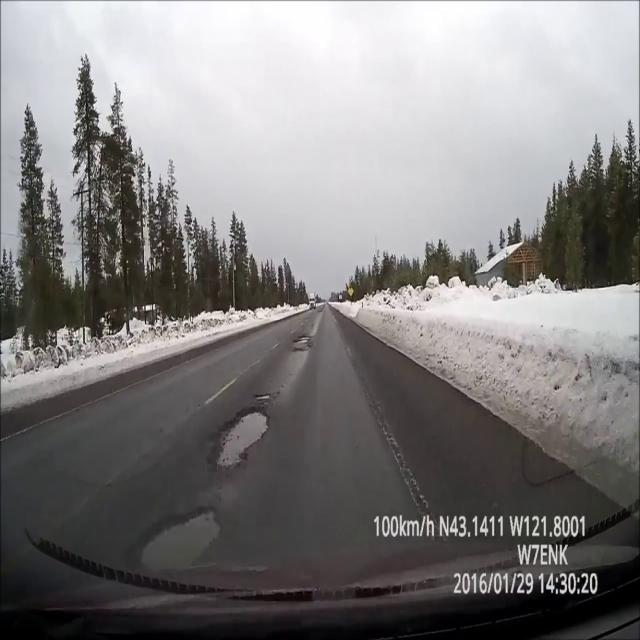Pothole: (136, 504, 227, 574), (206, 405, 270, 474), (254, 392, 274, 401), (295, 344, 312, 352), (294, 336, 311, 343), (318, 310, 323, 312)
